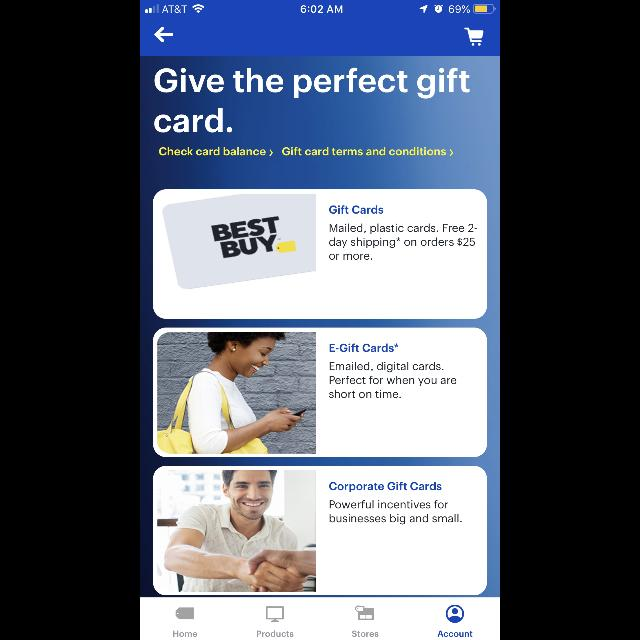icon: (464, 28, 484, 46), (446, 605, 464, 623), (154, 27, 173, 43), (176, 607, 194, 619), (450, 150, 454, 156), (269, 150, 273, 156)
image: (158, 470, 316, 592), (158, 332, 316, 454), (162, 194, 316, 290), (266, 606, 284, 622), (356, 606, 374, 620)
text: (154, 68, 470, 132), (329, 224, 477, 260), (329, 362, 456, 398), (330, 500, 462, 524), (282, 146, 446, 156), (329, 482, 441, 492), (158, 146, 266, 156), (330, 344, 398, 352), (329, 206, 383, 214), (256, 631, 294, 637), (438, 631, 472, 637), (352, 631, 378, 637), (174, 631, 198, 637)
uppertaskbar: (140, 0, 500, 14)
